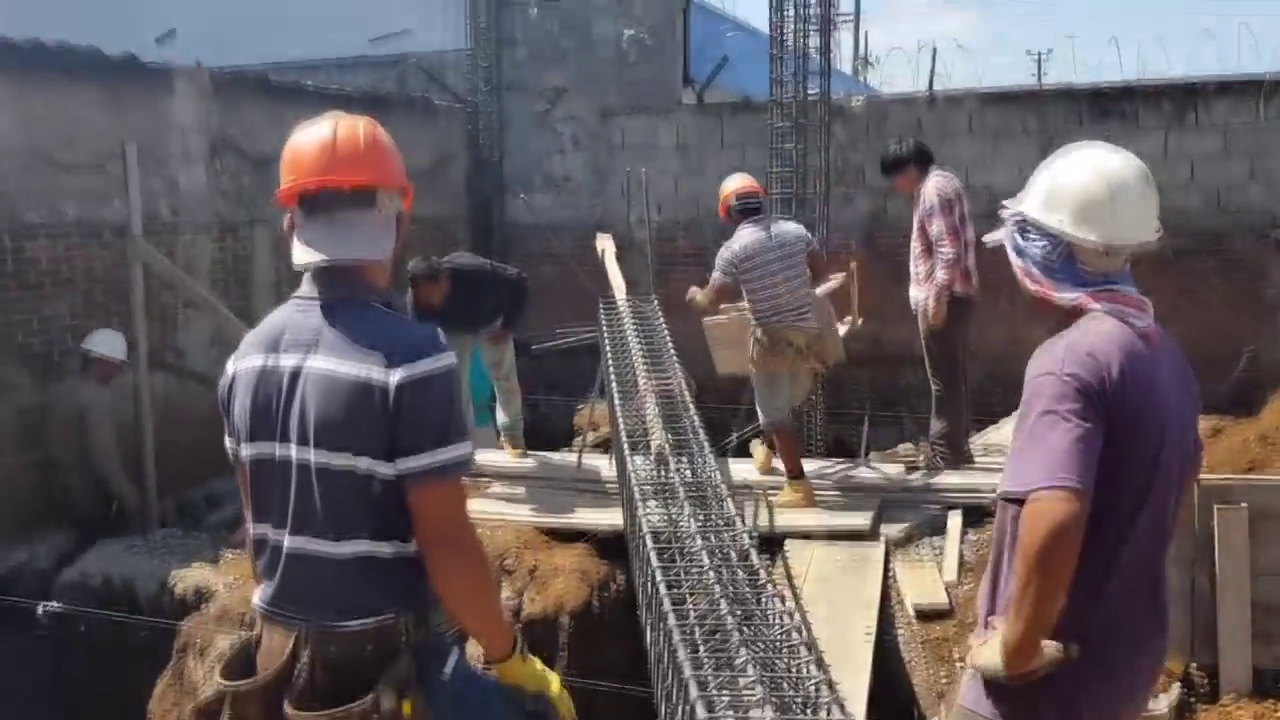helmet: (979, 138, 1167, 251), (272, 101, 415, 217), (715, 171, 764, 220), (79, 329, 129, 365)
helmet-off: (882, 139, 939, 199), (403, 250, 451, 307)
helmet-on: (984, 137, 1168, 339), (272, 103, 418, 320), (715, 170, 769, 232), (78, 328, 130, 386)
person: (217, 101, 580, 719), (973, 141, 1204, 720), (687, 170, 843, 510), (879, 139, 981, 471), (405, 247, 533, 451), (51, 322, 144, 533)
